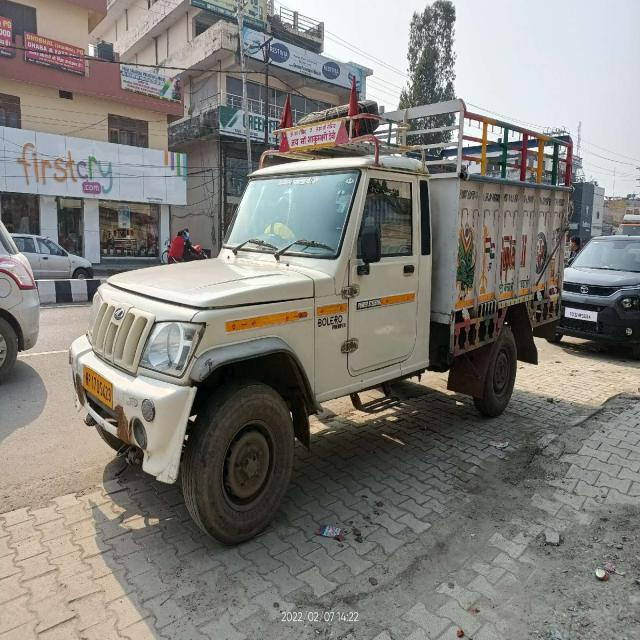light_vehicle: (64, 149, 566, 465)
